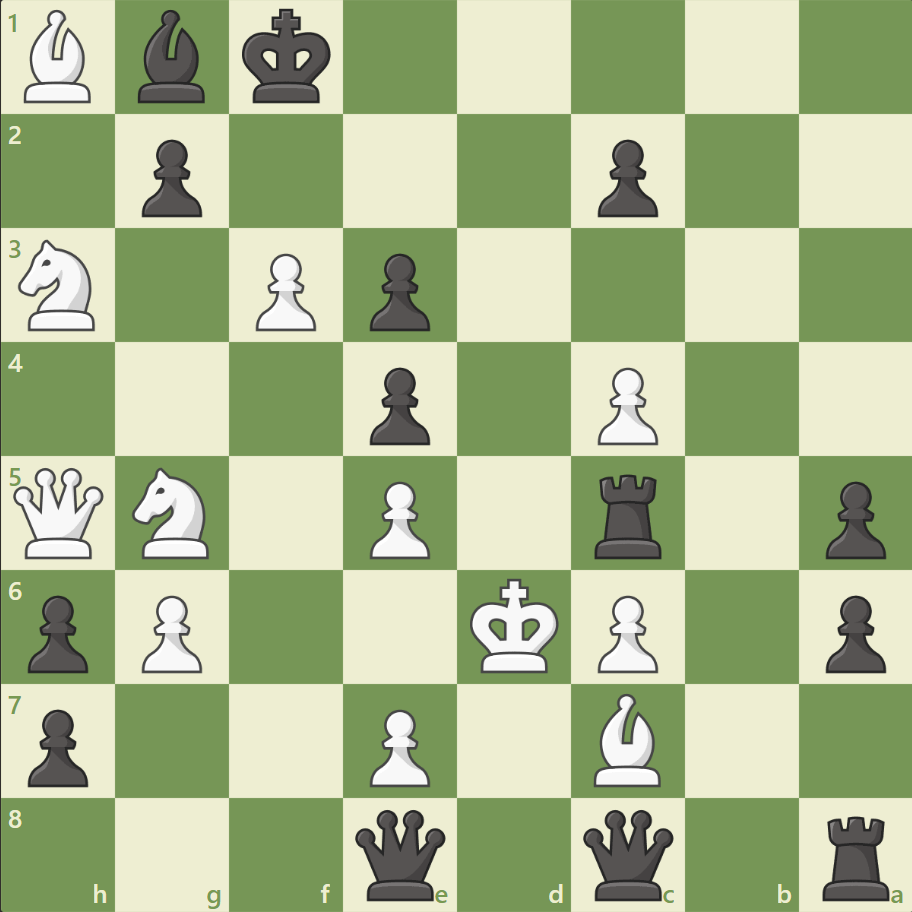B: (585, 687, 669, 790), (17, 6, 101, 109)
K: (465, 571, 565, 679)
N: (124, 461, 222, 564), (11, 234, 108, 337)
P: (133, 586, 208, 677), (247, 246, 322, 337), (361, 700, 435, 791), (588, 586, 662, 677), (361, 473, 435, 564), (588, 359, 662, 450)
Q: (10, 463, 109, 562)
b: (131, 6, 215, 109)
k: (238, 4, 338, 112)
p: (20, 700, 95, 791), (20, 586, 95, 677), (133, 132, 208, 223), (815, 586, 889, 677), (815, 473, 889, 564), (361, 359, 435, 450), (361, 246, 435, 337), (588, 132, 662, 223)
q: (578, 804, 677, 903), (351, 804, 450, 903)
r: (814, 806, 897, 904), (587, 466, 670, 563)
